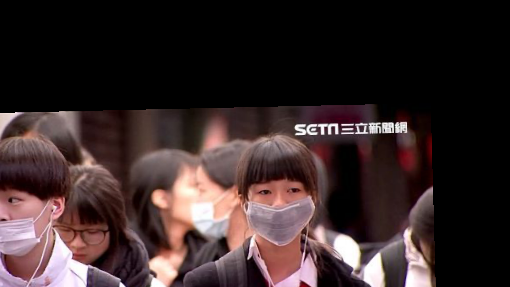mask_weared_incorrect: (227, 135, 339, 250)
